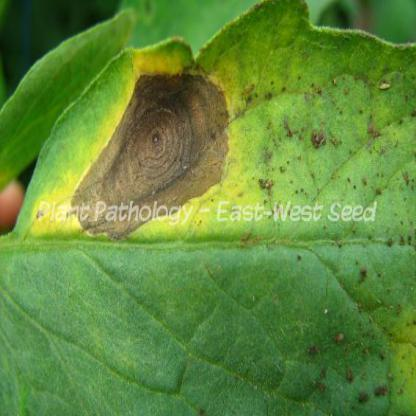Tomato Early blight leaf: (15, 26, 416, 264)
